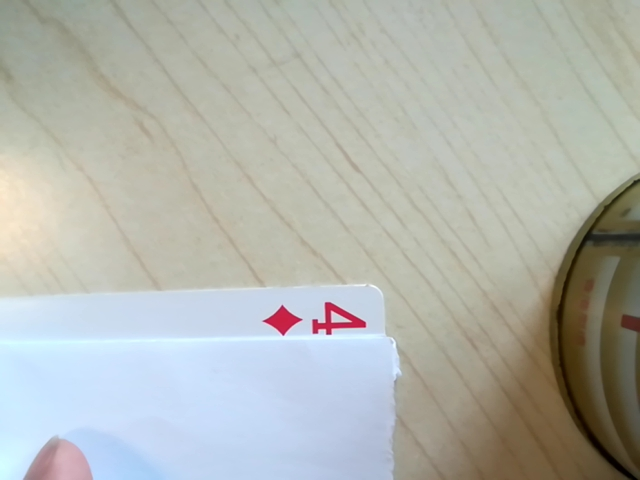fk 4: (249, 297, 378, 344)
